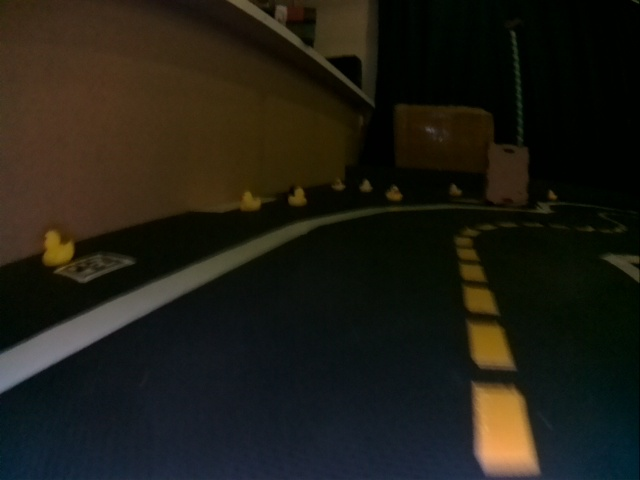Duckie: (43, 230, 73, 261), (241, 191, 261, 211), (290, 188, 307, 206), (386, 186, 401, 200), (449, 184, 461, 194), (333, 180, 343, 188), (548, 191, 557, 199), (362, 182, 370, 189)
QR code: (58, 254, 132, 280)
